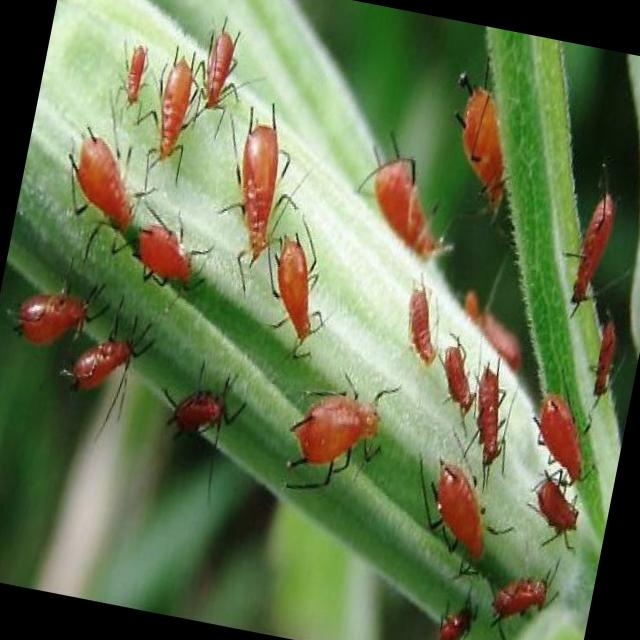aphid: (207, 95, 316, 278), (45, 120, 164, 256), (516, 388, 608, 544), (436, 84, 530, 224), (286, 392, 405, 494), (129, 36, 214, 176), (416, 463, 510, 578), (254, 228, 338, 356), (352, 148, 450, 255), (459, 352, 528, 490), (564, 189, 614, 333), (167, 372, 251, 456), (12, 280, 92, 354), (396, 270, 450, 366), (490, 574, 567, 636), (430, 337, 484, 418), (588, 319, 621, 410), (118, 41, 153, 111), (428, 604, 480, 640)
